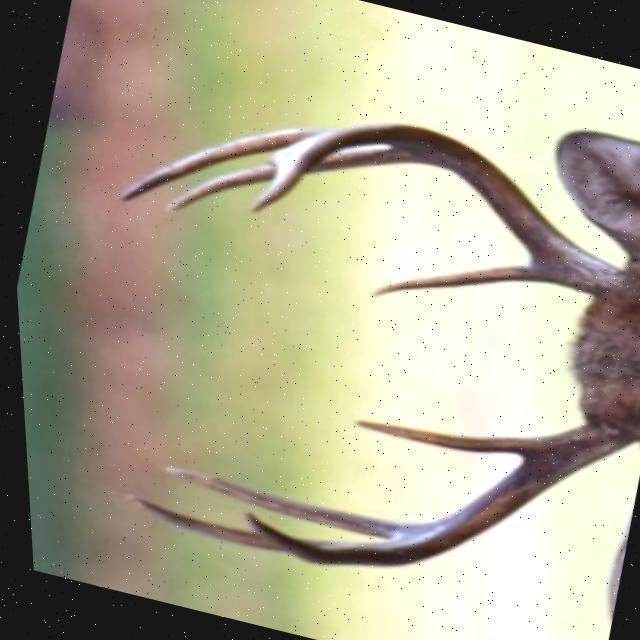L-F: (243, 121, 618, 296)
L-G1: (364, 264, 539, 298)
R-F: (230, 421, 633, 568)
R-G1: (342, 419, 535, 455)
R-G2: (155, 464, 411, 539)
